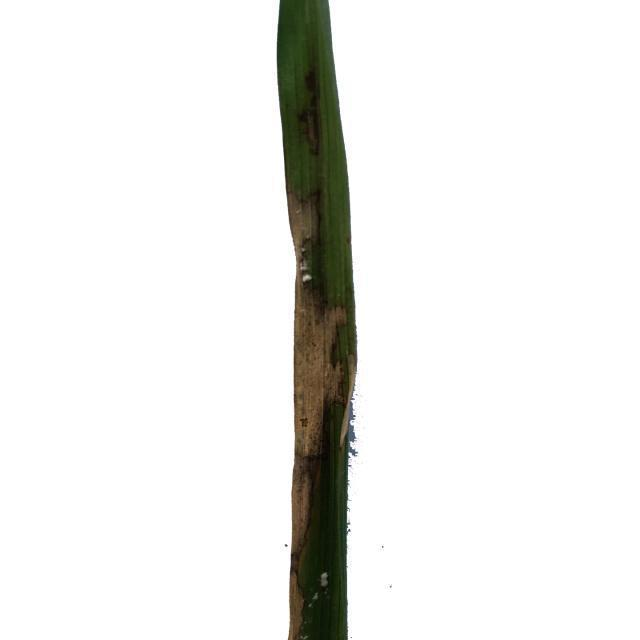Bacterial_Leaf_Blight: (294, 270, 354, 428), (287, 183, 331, 252), (293, 445, 320, 533)
